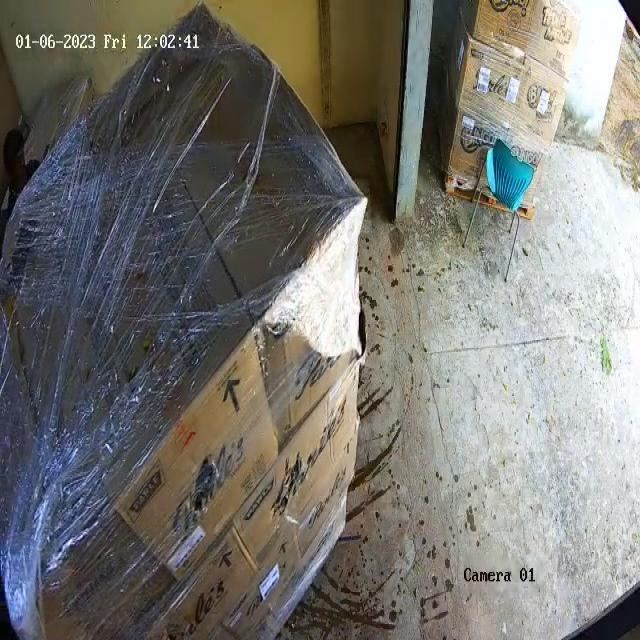leakage: (271, 436, 321, 527), (332, 292, 372, 380), (181, 456, 222, 534)
squeeze: (273, 179, 367, 362)
